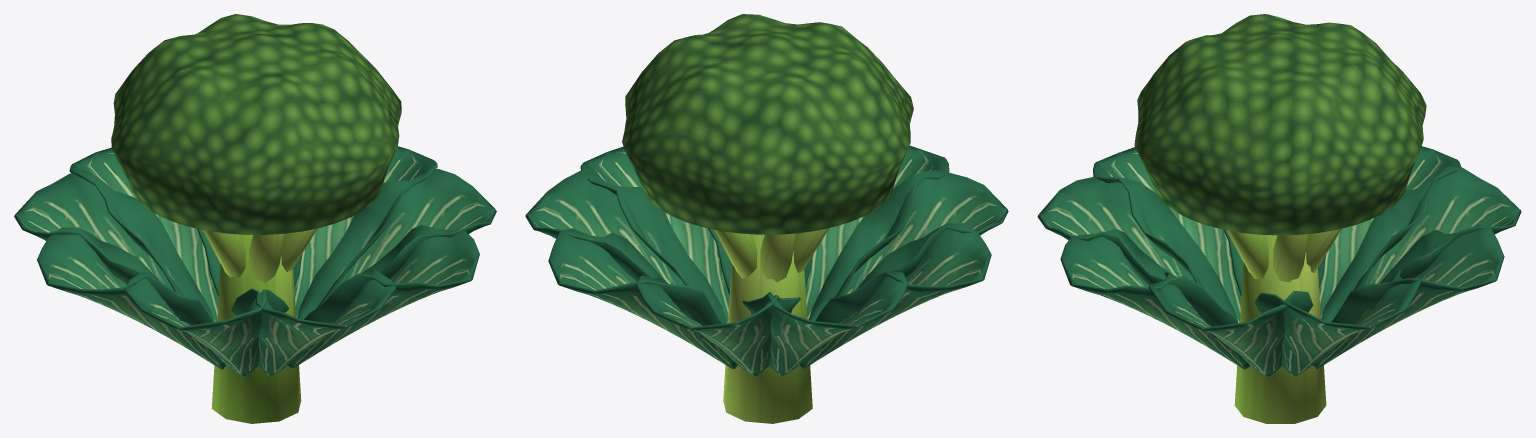
File: NP_Broccoli_Ready.fbx
3 renders of one model, left to right at view 1: azimuth 30°, elevation 25°; view 2: azimuth 150°, elevation 25°; view 3: azimuth 270°, elevation 25°, orthographic.
Parts seen in each view (by area): view 1: NP_Broccoli_Ready; view 2: NP_Broccoli_Ready; view 3: NP_Broccoli_Ready.
Boxes of the visible parts, <box> form: NP_Broccoli_Ready: <box>14,14,496,423</box>; NP_Broccoli_Ready: <box>525,14,1008,423</box>; NP_Broccoli_Ready: <box>1037,14,1521,423</box>.
Bounding box in the file's own units: 76.78 × 64.89 × 77.62.
